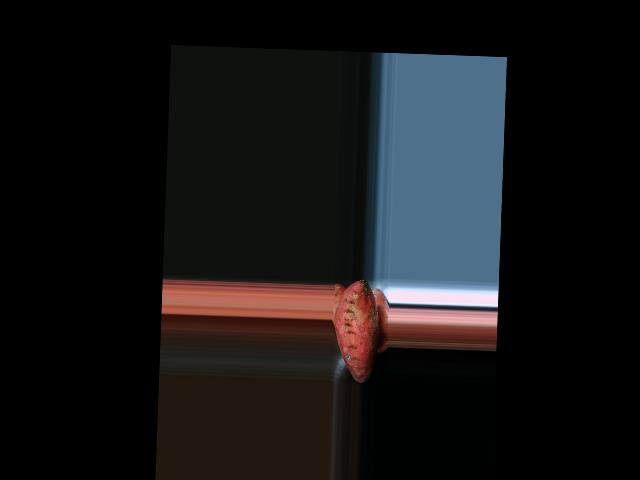sweet_potato: (336, 278, 376, 382)
